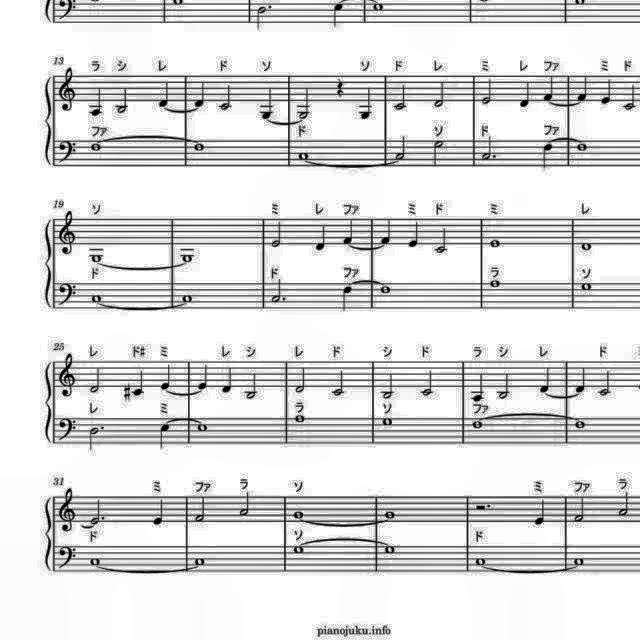Bass-clef: (56, 279, 82, 309), (57, 415, 81, 445), (57, 543, 81, 573), (56, 136, 80, 166)
Diez: (120, 382, 132, 402)
Full-note: (177, 248, 196, 264), (85, 139, 104, 155), (84, 555, 104, 569), (381, 509, 399, 523), (191, 140, 209, 154), (178, 290, 196, 304), (369, 0, 387, 14), (89, 251, 108, 263), (196, 421, 212, 435), (573, 140, 589, 154), (378, 282, 394, 296), (579, 240, 595, 254), (579, 280, 595, 294), (193, 555, 209, 569), (290, 541, 306, 555), (382, 541, 398, 555), (90, 290, 106, 304), (290, 510, 306, 522), (488, 238, 504, 250), (488, 278, 504, 290), (291, 413, 307, 425), (570, 556, 586, 568), (294, 148, 310, 160), (572, 418, 588, 430), (380, 416, 396, 428), (468, 418, 484, 430), (474, 556, 490, 566)
Half-dot: (86, 494, 110, 526), (88, 425, 109, 455), (254, 1, 274, 31), (268, 276, 288, 306), (480, 134, 498, 162)
Half-note: (296, 87, 316, 121), (622, 82, 640, 114), (216, 82, 234, 114), (234, 489, 252, 519), (596, 369, 614, 399), (331, 367, 349, 397), (418, 367, 436, 397), (270, 218, 286, 250), (392, 82, 408, 114), (429, 138, 446, 168), (243, 371, 260, 401), (433, 226, 451, 254), (431, 78, 447, 109), (193, 493, 210, 522), (114, 87, 130, 117), (480, 75, 496, 105), (292, 364, 308, 394), (88, 365, 104, 395), (496, 370, 512, 400), (378, 369, 394, 399), (392, 134, 408, 162), (617, 492, 633, 520), (572, 493, 586, 522)
Half-rest: (471, 499, 493, 513)
Quarter-note: (354, 86, 374, 122), (258, 85, 278, 118), (469, 370, 488, 404), (89, 86, 108, 120), (151, 498, 169, 530), (329, 0, 347, 28), (532, 497, 548, 528), (132, 368, 148, 398), (193, 80, 209, 110), (518, 79, 534, 109), (218, 366, 234, 396), (196, 363, 212, 393), (159, 362, 175, 392), (314, 223, 330, 253), (342, 216, 358, 246), (378, 217, 394, 247), (572, 366, 588, 396), (340, 283, 356, 313), (541, 139, 557, 169), (158, 422, 174, 452), (154, 77, 170, 106), (540, 76, 556, 104), (574, 76, 590, 104), (536, 366, 552, 394), (408, 220, 422, 252), (599, 77, 613, 107)
Quarter-rest: (334, 76, 346, 100)
Treble-clef: (56, 67, 80, 116), (56, 352, 80, 400), (56, 207, 80, 255), (56, 486, 80, 534)
